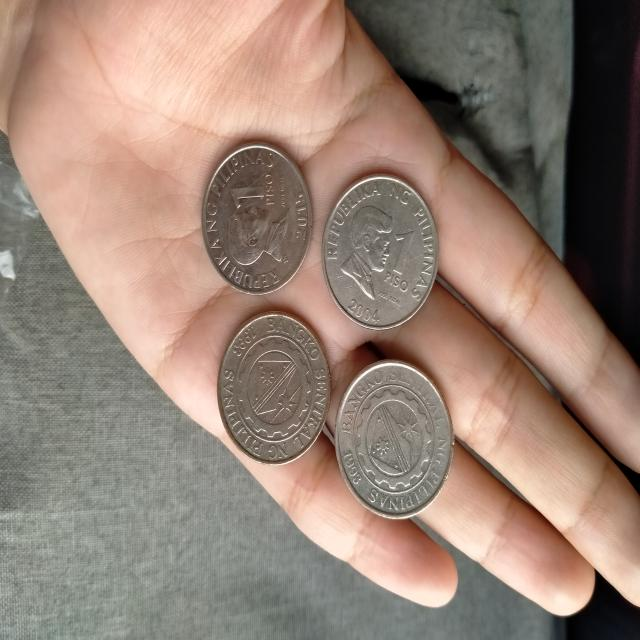1_Old_Back: (350, 380, 436, 506), (235, 324, 314, 452)
